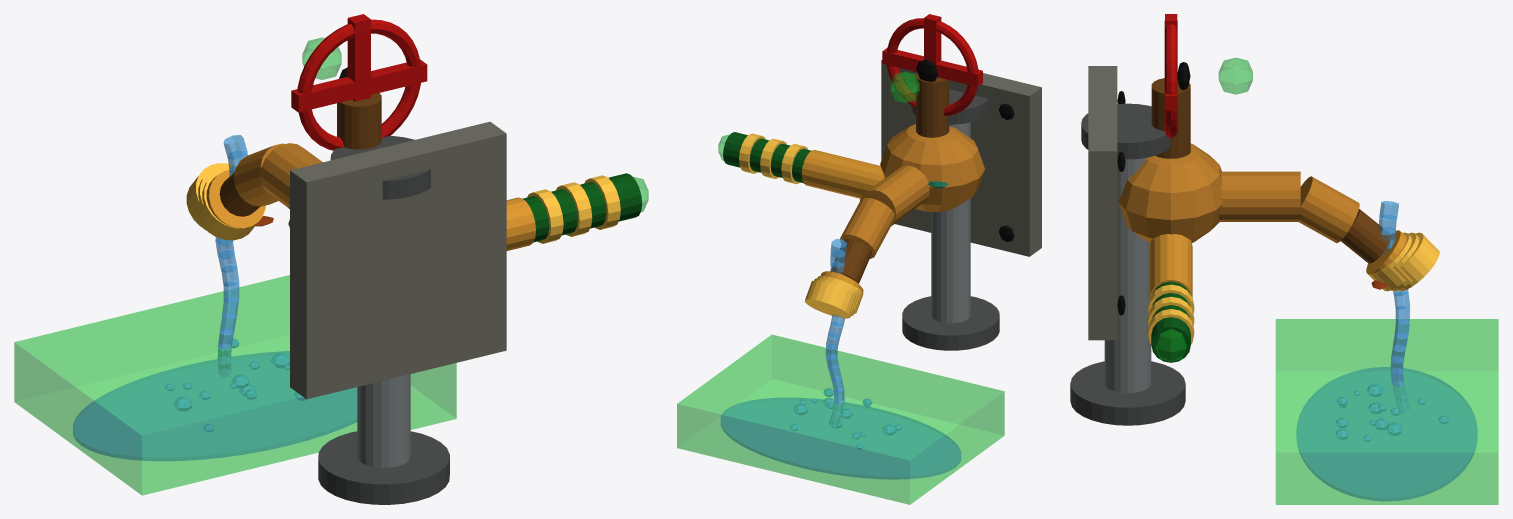
Rendered from outdoor_water_tap_with_pouring_water.obj.
3 views of the same model, side by side, from view 1: azimuth 30°, elevation 25°; view 2: azimuth 150°, elevation 25°; view 3: azimuth 270°, elevation 25° (orthographic). The views are drawn at different scales.
Parts seen in each view (by area): view 1: Flat_wall_mounting_plate, Guide_Wet_Puddle_Area_delete_or_hide, Transparent_water_puddle_under_tap, Lower_pipe_flange, Vertical_supply_pipe, Round_turn_handle_wheel, Short_attached_hose_end, Handle_crossbar_horizontal, Top_valve_stem, Short_forward_spout_neck, Handle_crossbar_vertical, Upper_pipe_collar (+9 smaller); view 2: Guide_Wet_Puddle_Area_delete_or_hide, Flat_wall_mounting_plate, Transparent_water_puddle_under_tap, Rounded_tap_valve_body, Vertical_supply_pipe, Lower_pipe_flange, Side_hose_connection_stub, Round_turn_handle_wheel, Short_forward_spout_neck, Top_valve_stem, Downturned_spout_curve_approx, Short_attached_hose_end (+9 smaller); view 3: Guide_Wet_Puddle_Area_delete_or_hide, Transparent_water_puddle_under_tap, Flat_wall_mounting_plate, Rounded_tap_valve_body, Vertical_supply_pipe, Lower_pipe_flange, Short_forward_spout_neck, Downturned_spout_curve_approx, Upper_pipe_collar, Side_hose_connection_stub, Short_attached_hose_end, Top_valve_stem (+10 smaller).
Part boxes in pixels (bbox=[...]): Flat_wall_mounting_plate: bbox=[290, 121, 506, 399]; Guide_Wet_Puddle_Area_delete_or_hide: bbox=[14, 275, 456, 495]; Transparent_water_puddle_under_tap: bbox=[73, 351, 356, 460]; Lower_pipe_flange: bbox=[318, 431, 449, 504]; Vertical_supply_pipe: bbox=[357, 374, 410, 467]; Round_turn_handle_wheel: bbox=[297, 19, 420, 150]; Short_attached_hose_end: bbox=[523, 173, 642, 242]; Handle_crossbar_horizontal: bbox=[291, 59, 427, 112]; Top_valve_stem: bbox=[337, 93, 381, 149]; Short_forward_spout_neck: bbox=[260, 143, 322, 207]; Handle_crossbar_vertical: bbox=[347, 14, 370, 101]; Upper_pipe_collar: bbox=[330, 136, 430, 199]; Guide_Wet_Puddle_Area_delete_or_hide: bbox=[677, 334, 1004, 504]; Flat_wall_mounting_plate: bbox=[881, 60, 1041, 256]; Transparent_water_puddle_under_tap: bbox=[721, 398, 960, 479]; Rounded_tap_valve_body: bbox=[880, 124, 984, 211]; Vertical_supply_pipe: bbox=[931, 122, 970, 323]; Lower_pipe_flange: bbox=[902, 296, 999, 350]; Side_hose_connection_stub: bbox=[801, 150, 884, 198]; Round_turn_handle_wheel: bbox=[887, 18, 978, 115]; Short_forward_spout_neck: bbox=[860, 165, 929, 226]; Top_valve_stem: bbox=[916, 73, 949, 137]; Downturned_spout_curve_approx: bbox=[840, 198, 894, 258]; Short_attached_hose_end: bbox=[723, 132, 811, 182]; Guide_Wet_Puddle_Area_delete_or_hide: bbox=[1275, 319, 1498, 504]; Transparent_water_puddle_under_tap: bbox=[1296, 367, 1477, 500]; Flat_wall_mounting_plate: bbox=[1088, 66, 1117, 340]; Rounded_tap_valve_body: bbox=[1118, 143, 1222, 242]; Vertical_supply_pipe: bbox=[1104, 157, 1151, 393]; Lower_pipe_flange: bbox=[1070, 361, 1185, 425]; Short_forward_spout_neck: bbox=[1218, 171, 1300, 221]; Downturned_spout_curve_approx: bbox=[1299, 176, 1359, 243]; Upper_pipe_collar: bbox=[1081, 103, 1170, 159]; Side_hose_connection_stub: bbox=[1149, 234, 1192, 297]; Short_attached_hose_end: bbox=[1151, 281, 1190, 362]; Top_valve_stem: bbox=[1151, 78, 1190, 158].
Size of what is drawn, in the model's own units: 1.25 by 1.29 by 1.19.
